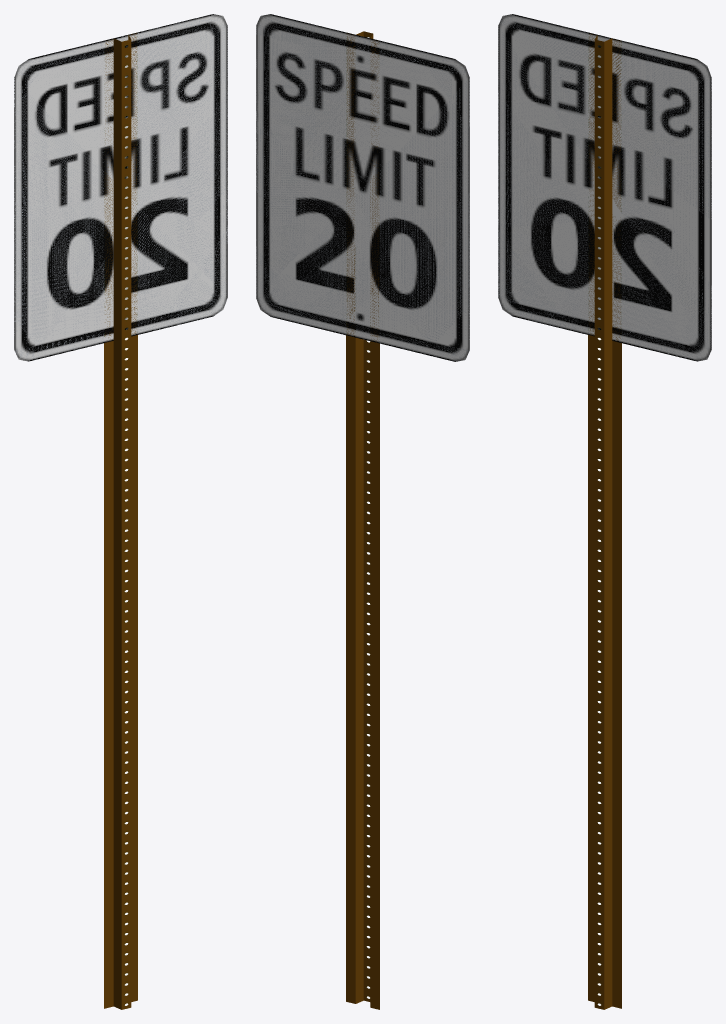
The model's file is limit20.dae.
3 views of the same model, side by side, from view 1: azimuth 30°, elevation 25°; view 2: azimuth 150°, elevation 25°; view 3: azimuth 330°, elevation 25° (orthographic).
Visible parts, largest first — view 1: group_1, Component_11 (×2), Component_10, Component_12; view 2: group_1, Component_11 (×2), Component_12, Component_10; view 3: group_1, Component_11 (×2), Component_10, Component_12.
Part boxes in pixels (x1,y1,x2,y2): group_1: [14, 14, 227, 361]; Component_11 (×2): [104, 335, 137, 1008]; Component_10: [121, 39, 131, 1009]; Component_12: [113, 38, 121, 1009]; group_1: [256, 14, 469, 361]; Component_11 (×2): [346, 335, 379, 1009]; Component_12: [355, 31, 363, 1003]; Component_10: [363, 31, 372, 1001]; group_1: [498, 14, 711, 361]; Component_11 (×2): [588, 335, 621, 1008]; Component_10: [594, 39, 604, 1009]; Component_12: [604, 38, 612, 1009].
Size of the model in its own units: 22.14 by 1 by 96.
Materials: 4 (4 with a texture image).
